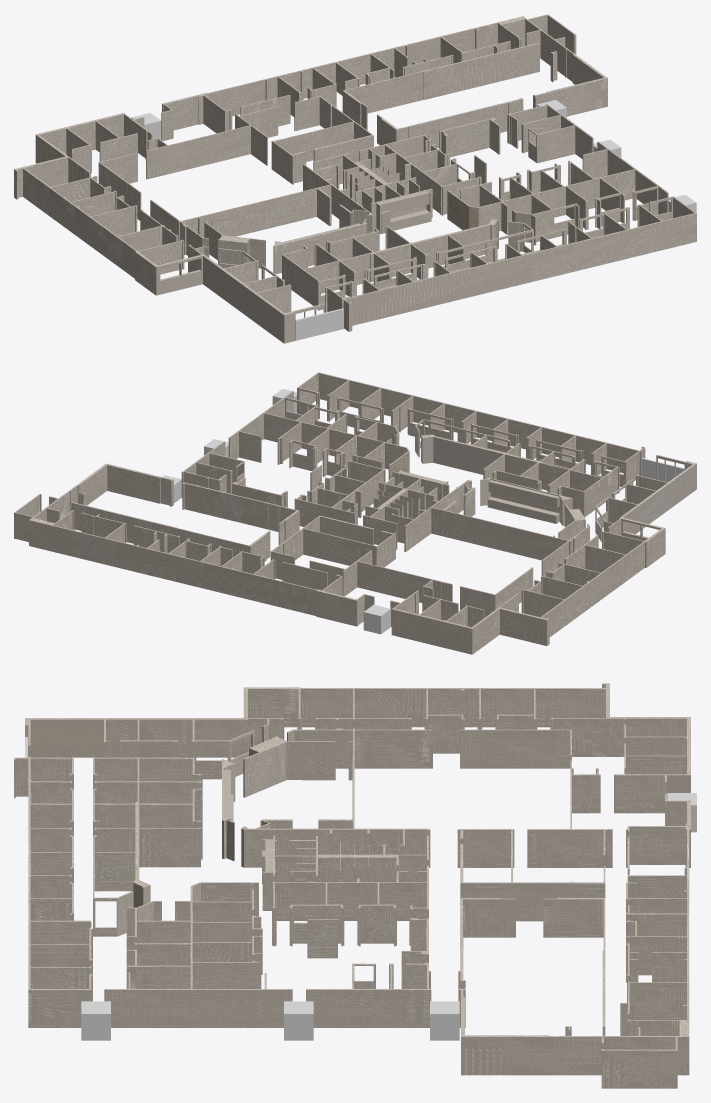
Rendered from willowgarage_collision_closed.dae.
The picture shows the model from 3 angles, top to bottom: view 1: azimuth 30°, elevation 25°; view 2: azimuth 150°, elevation 25°; view 3: azimuth 270°, elevation 25°; orthographic projection. The views are drawn at different scales.
Visible parts, largest first — view 1: SketchUp_015, SketchUp_006, SketchUp_025, SketchUp_028, SketchUp_024, SketchUp_005, SketchUp_019, SketchUp_004, SketchUp_002, SketchUp_022, SketchUp_017, SketchUp_029 (+14 smaller); view 2: SketchUp_006, SketchUp_015, SketchUp_025, SketchUp_028, SketchUp_019, SketchUp_024, SketchUp_004, SketchUp_022, SketchUp_014, SketchUp_002, SketchUp_017, SketchUp_005 (+13 smaller); view 3: SketchUp_015, SketchUp_006, SketchUp_028, SketchUp_025, SketchUp_024, SketchUp_019, SketchUp_022, SketchUp_029, SketchUp_017, SketchUp_004, SketchUp_002, SketchUp_038 (+11 smaller).
Part boxes in pixels (<box>): SketchUp_015: <box>14,113,325,317</box>; SketchUp_006: <box>161,14,607,140</box>; SketchUp_025: <box>325,196,696,331</box>; SketchUp_028: <box>448,141,668,244</box>; SketchUp_024: <box>282,219,533,310</box>; SketchUp_005: <box>342,43,539,130</box>; SketchUp_019: <box>150,163,372,255</box>; SketchUp_004: <box>271,96,373,184</box>; SketchUp_002: <box>146,106,278,179</box>; SketchUp_022: <box>359,134,481,214</box>; SketchUp_017: <box>313,153,432,233</box>; SketchUp_029: <box>507,104,593,162</box>; SketchUp_006: <box>14,463,374,626</box>; SketchUp_015: <box>390,455,696,654</box>; SketchUp_025: <box>297,372,645,487</box>; SketchUp_028: <box>228,391,409,480</box>; SketchUp_019: <box>391,479,589,576</box>; SketchUp_024: <box>415,419,619,517</box>; SketchUp_004: <box>270,515,395,579</box>; SketchUp_022: <box>294,460,385,526</box>; SketchUp_014: <box>182,482,299,545</box>; SketchUp_002: <box>309,550,452,611</box>; SketchUp_017: <box>363,470,449,549</box>; SketchUp_005: <box>71,502,270,561</box>; SketchUp_015: <box>25,683,690,813</box>; SketchUp_006: <box>458,793,690,1088</box>; SketchUp_028: <box>104,882,292,1027</box>; SketchUp_025: <box>14,756,92,1027</box>; SketchUp_024: <box>93,757,202,936</box>; SketchUp_019: <box>241,728,432,867</box>; SketchUp_022: <box>272,865,428,944</box>; SketchUp_029: <box>306,963,431,1027</box>; SketchUp_017: <box>262,835,428,909</box>; SketchUp_004: <box>457,829,605,921</box>; SketchUp_002: <box>527,760,612,867</box>; SketchUp_038: <box>460,729,571,768</box>.
Size of the model in its own units: 58.63 by 46.07 by 2.85.
